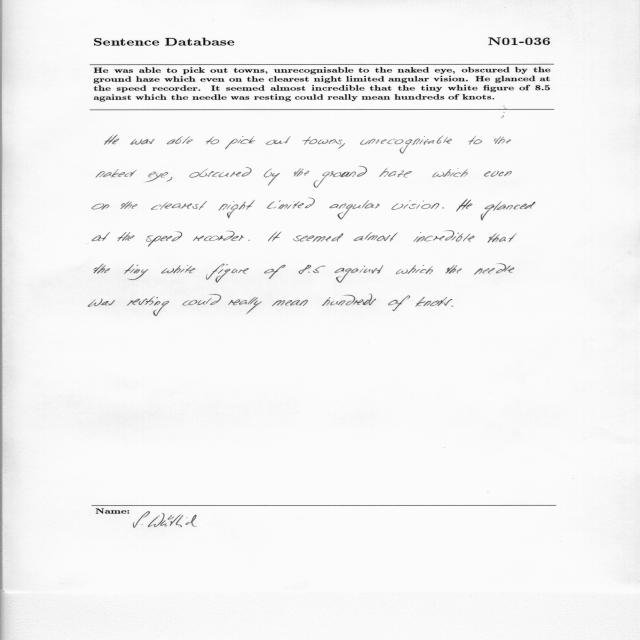word: (360, 136, 452, 154), (314, 166, 367, 188), (481, 202, 535, 221), (329, 200, 380, 219), (335, 265, 384, 283), (127, 296, 169, 316), (206, 264, 249, 283), (189, 167, 252, 178), (219, 200, 255, 219), (414, 231, 475, 242), (322, 294, 376, 306), (228, 297, 261, 314), (146, 232, 182, 247), (267, 198, 315, 209), (193, 231, 244, 241), (151, 201, 207, 210), (392, 200, 440, 210), (183, 294, 221, 306), (474, 264, 515, 275), (294, 233, 344, 242), (354, 232, 398, 241), (225, 136, 255, 149), (124, 264, 148, 280), (416, 297, 453, 307), (302, 136, 343, 145), (96, 169, 137, 178), (396, 265, 433, 274), (379, 168, 412, 178), (388, 296, 410, 311), (432, 168, 468, 177), (264, 265, 286, 279), (488, 233, 517, 243), (264, 169, 280, 186), (161, 265, 195, 273), (145, 172, 169, 183), (299, 265, 326, 274), (89, 298, 116, 307), (266, 136, 291, 145), (272, 300, 308, 306), (167, 136, 193, 144), (456, 199, 472, 212), (484, 171, 512, 177), (92, 232, 110, 241), (117, 232, 135, 241), (94, 264, 110, 274), (445, 265, 462, 274), (131, 139, 155, 145), (120, 201, 138, 209), (105, 135, 119, 145), (268, 232, 282, 242), (494, 136, 511, 144), (294, 168, 309, 177), (468, 136, 482, 145), (92, 203, 110, 210), (206, 137, 220, 144), (338, 143, 345, 149), (167, 177, 173, 182), (442, 207, 444, 209), (248, 240, 250, 241), (451, 306, 453, 307)
